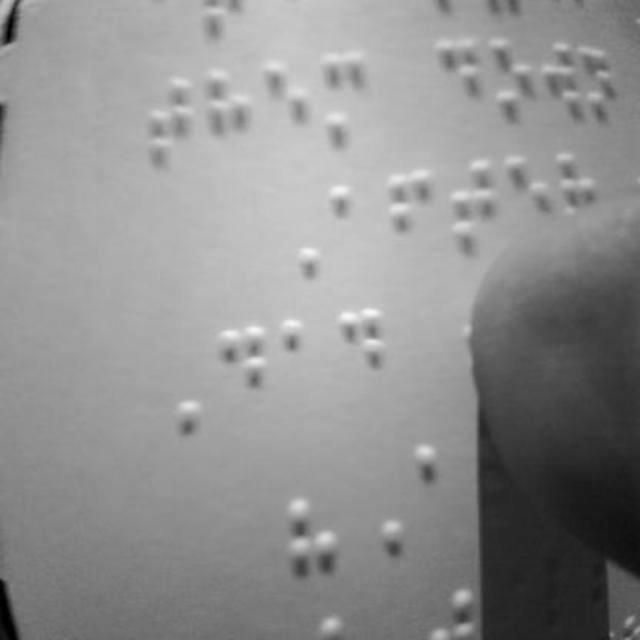braiile: (448, 154, 504, 270), (216, 320, 274, 430), (338, 305, 396, 415), (318, 49, 372, 155), (278, 316, 332, 419), (383, 162, 433, 272), (203, 66, 253, 168), (144, 69, 192, 175), (330, 178, 380, 276), (262, 58, 308, 158), (432, 34, 478, 134), (490, 30, 532, 132)
